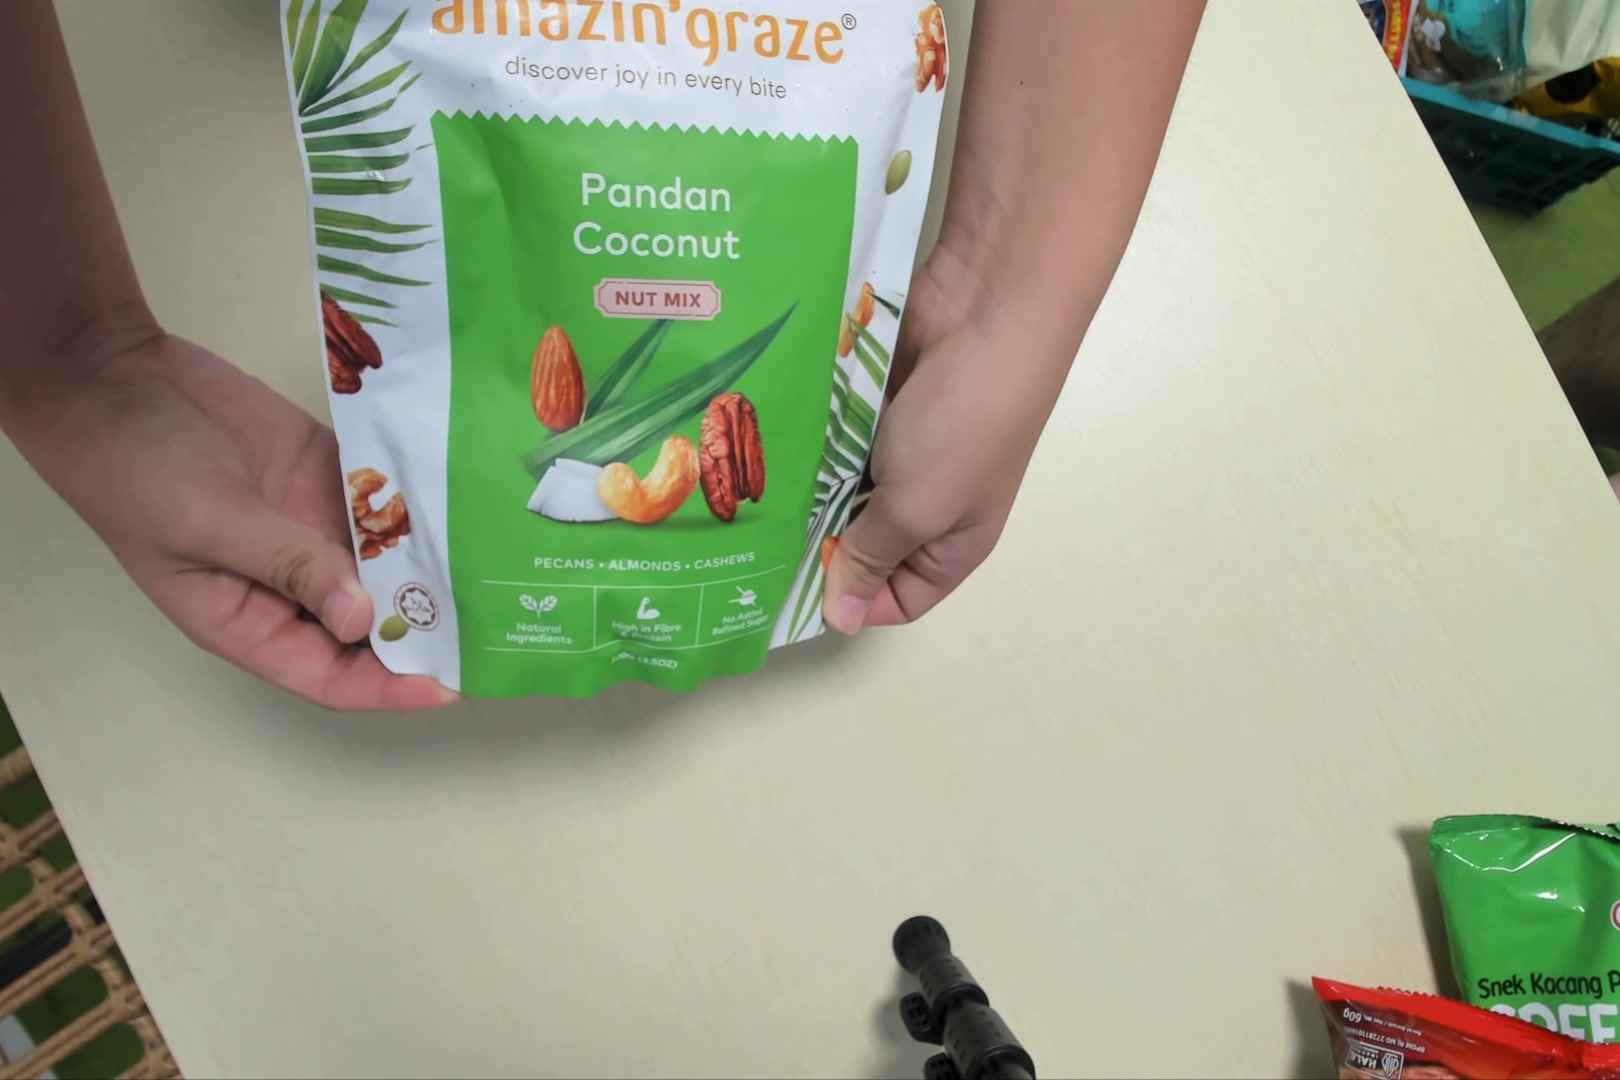Nuts_100-199g_Halal_NonHealthy: (298, 1, 947, 715)
